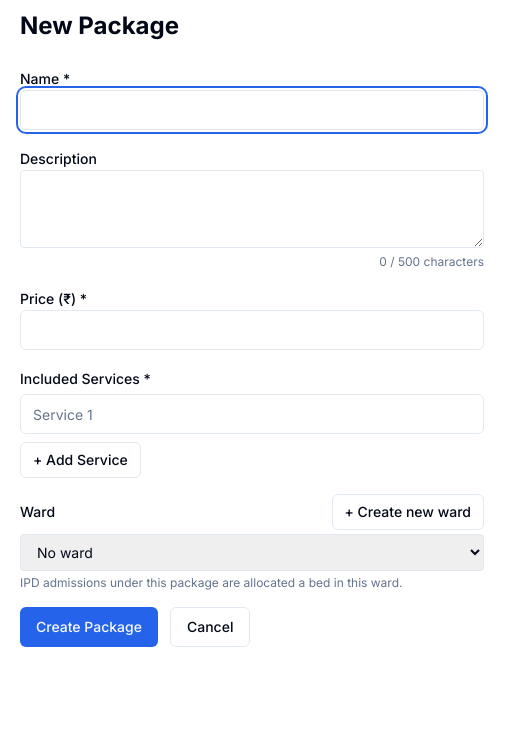
NewPackagePage — ward linking › a backend error (e.g. duplicate ward name) is shown and the user stays on the form
This screenshot has width=505, height=755.
Type "Maternity Package" into the field labelled "Name *". click: (252, 110)
box: [20,90,484,130]
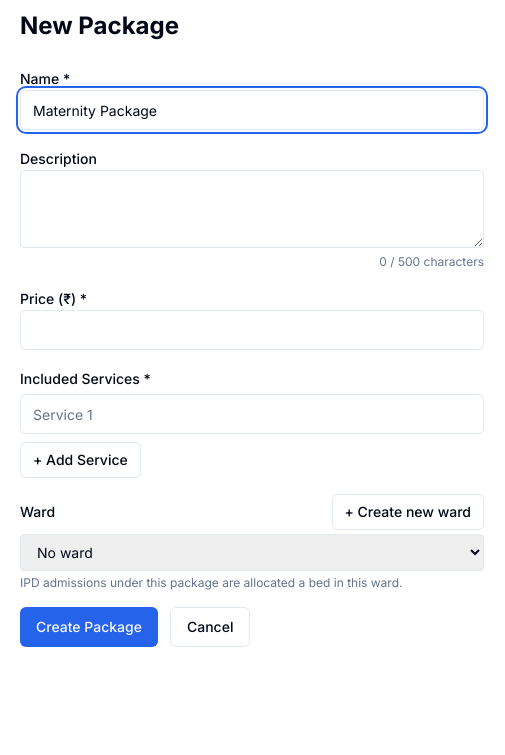
Type "25000" into the number field labelled "Price (₹) *". click: (252, 330)
box: [20,310,484,350]
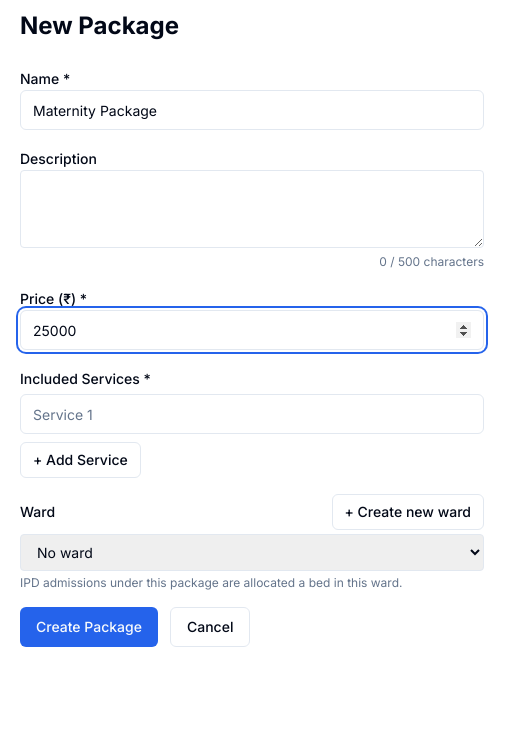
Type "Delivery" into the field with placeholder "Service 1". click: (252, 414)
box: [20,394,484,434]
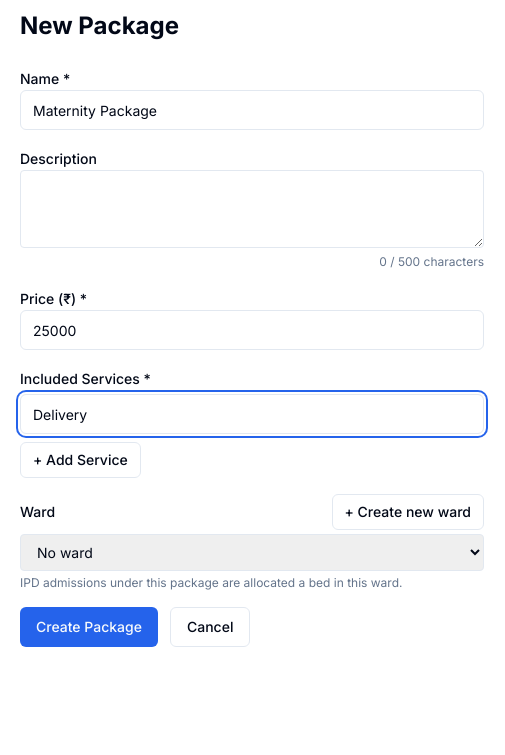
Click the button "+ Create new ward". click: (408, 512)
box: [332,494,484,530]
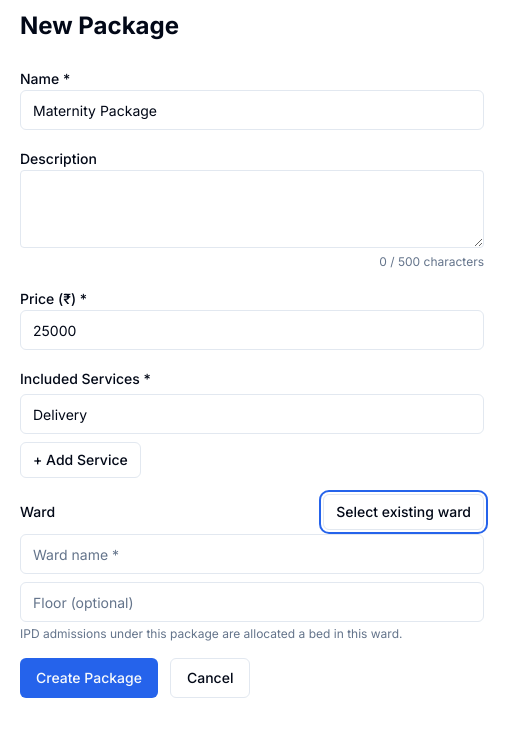
Type "Package Ward" into the field named "new ward name". click: (252, 554)
box: [20,534,484,574]
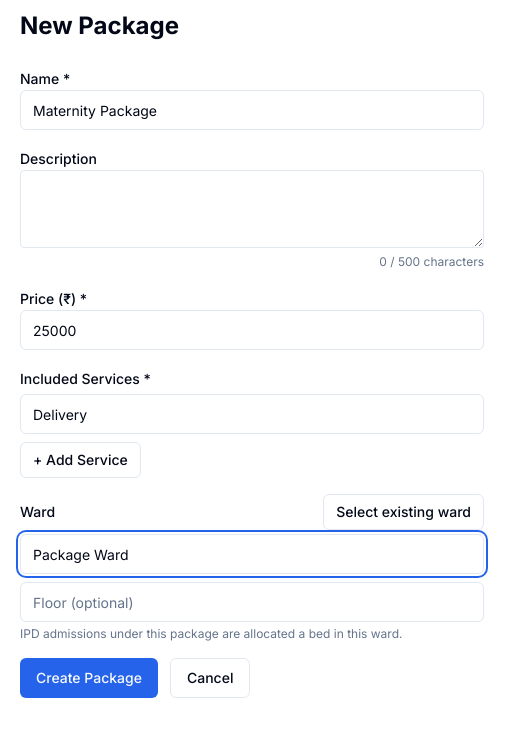
Click the button "Create Package". click: (89, 678)
box: [20,658,158,698]
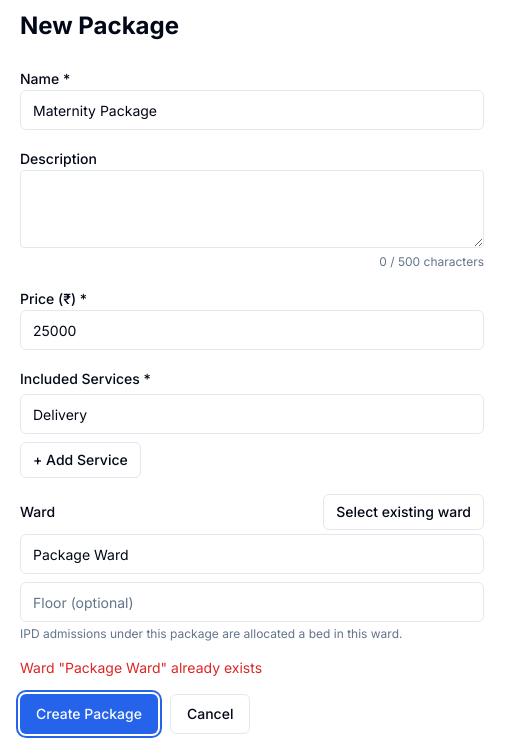
Result: the text "Ward \"Package Ward\" already exists" is shown at [20,659,262,676]
